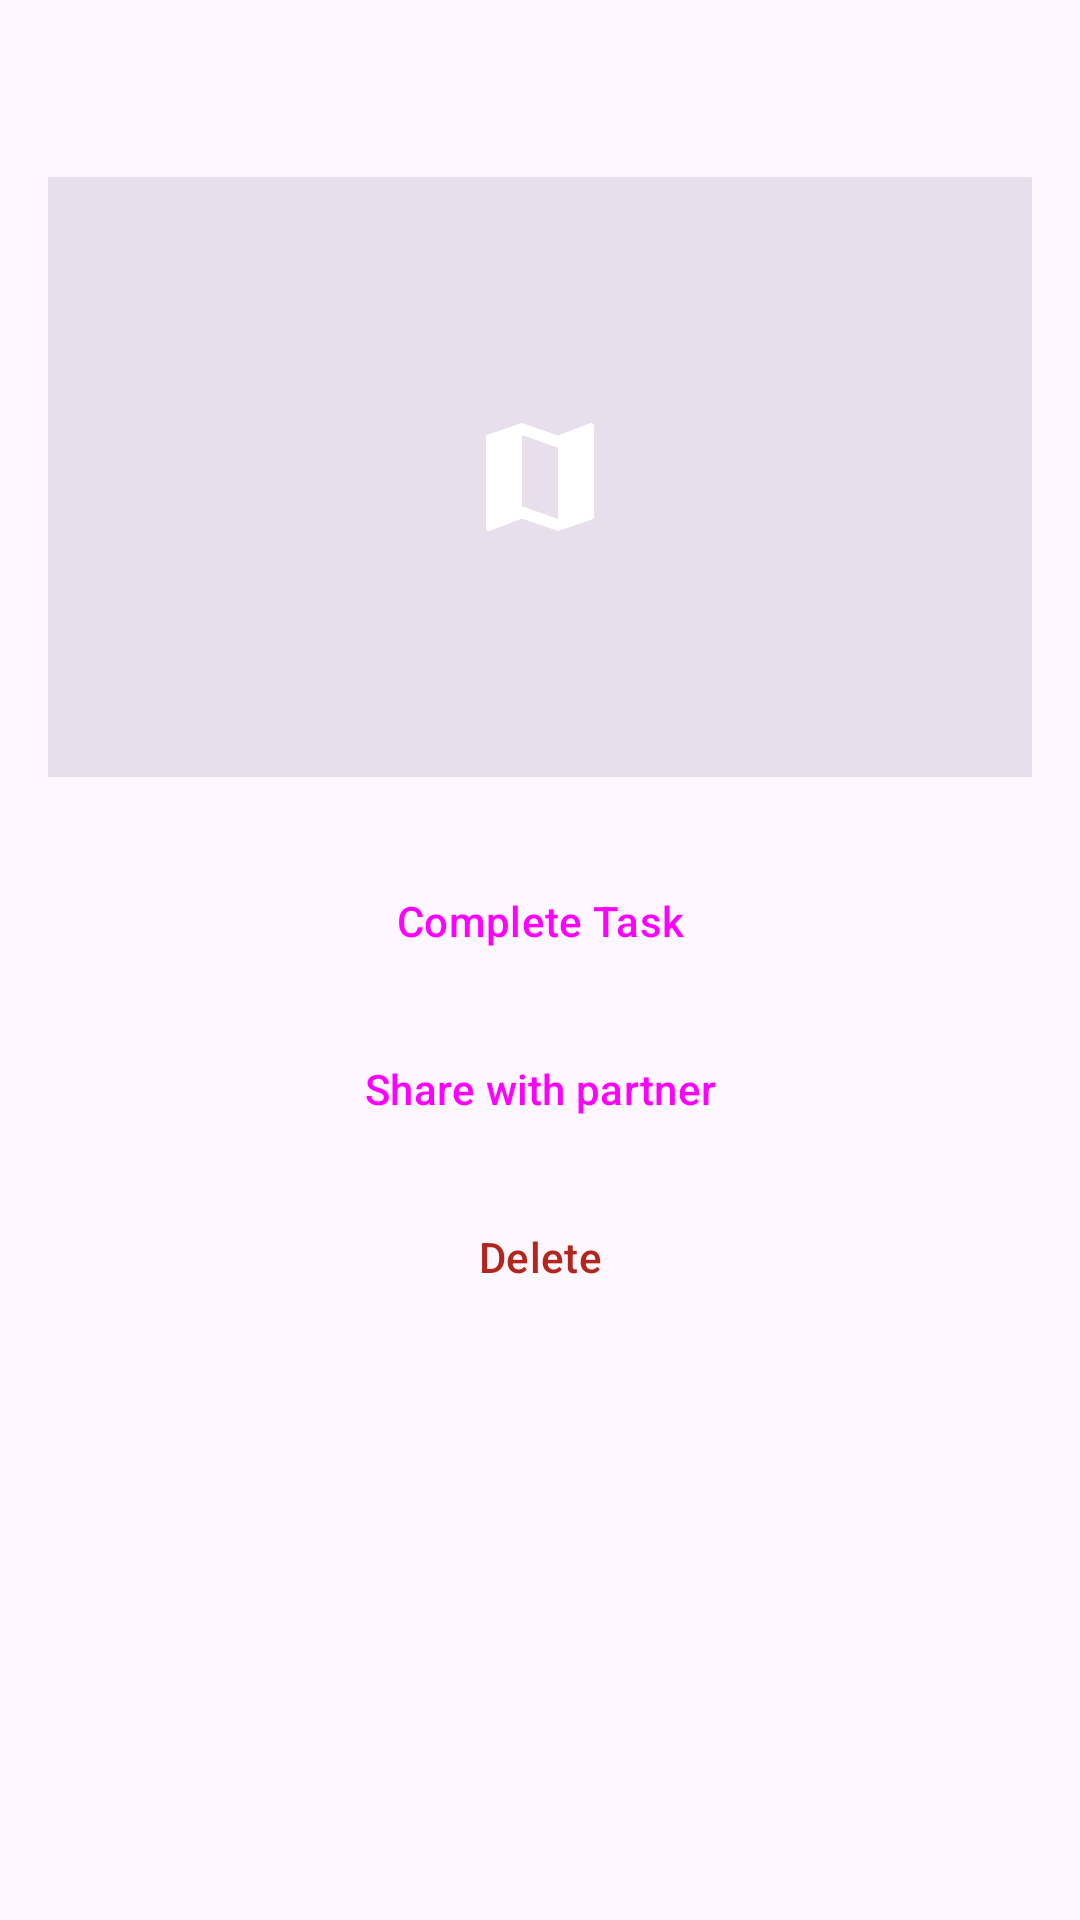

Point at icon controls on the screen. Image size 1080*1920, points as (x,y).
Map: (540,477)
